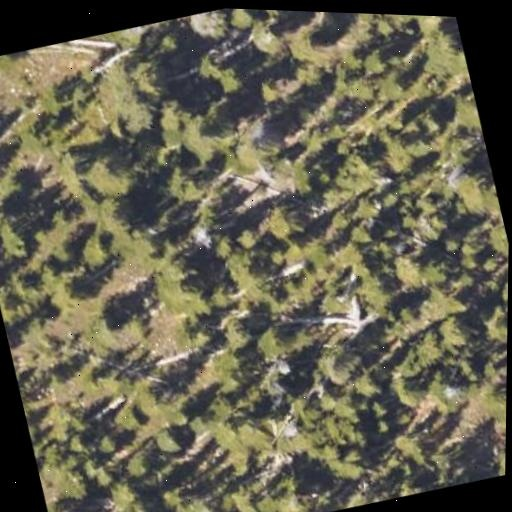tree-top: (84, 47, 172, 140), (143, 244, 220, 326), (71, 135, 146, 210), (290, 379, 361, 449), (317, 140, 389, 207), (154, 146, 218, 212), (409, 15, 470, 84), (348, 261, 406, 322), (444, 161, 501, 220), (135, 380, 191, 438), (381, 243, 438, 299), (213, 406, 272, 459), (333, 192, 389, 247), (317, 437, 374, 490), (255, 194, 310, 247), (322, 339, 375, 394), (51, 460, 104, 512), (84, 303, 136, 356), (397, 194, 450, 246), (411, 276, 465, 327), (373, 126, 422, 181), (68, 223, 118, 276), (386, 362, 435, 415), (426, 360, 476, 411), (279, 264, 329, 314), (102, 473, 164, 512), (209, 340, 255, 391), (183, 7, 238, 49), (213, 305, 258, 356), (330, 59, 377, 107), (23, 247, 72, 292), (0, 275, 41, 328), (323, 238, 370, 283), (171, 312, 218, 356), (0, 212, 38, 265), (286, 51, 331, 95), (431, 308, 474, 354), (247, 319, 290, 364), (178, 111, 223, 154), (12, 111, 51, 159), (41, 79, 83, 122), (124, 220, 166, 263), (39, 360, 82, 402), (377, 65, 418, 109), (475, 298, 508, 352), (52, 276, 95, 317), (394, 430, 435, 473), (287, 21, 329, 61), (107, 398, 146, 439), (156, 423, 195, 463), (0, 161, 37, 203), (451, 89, 483, 137), (276, 480, 324, 512), (291, 155, 325, 200), (449, 231, 486, 271), (187, 49, 227, 86), (357, 40, 393, 81), (221, 481, 268, 512), (229, 254, 265, 293), (216, 59, 252, 97), (403, 15, 454, 41), (483, 384, 507, 435), (482, 217, 509, 262), (231, 219, 264, 254), (152, 28, 185, 61), (44, 489, 90, 512), (183, 491, 232, 512), (126, 447, 156, 478), (223, 8, 260, 33), (66, 427, 95, 458), (43, 437, 70, 469), (367, 391, 394, 422), (95, 428, 122, 455), (490, 441, 506, 477), (0, 50, 26, 72), (370, 417, 394, 438), (0, 196, 14, 231)
